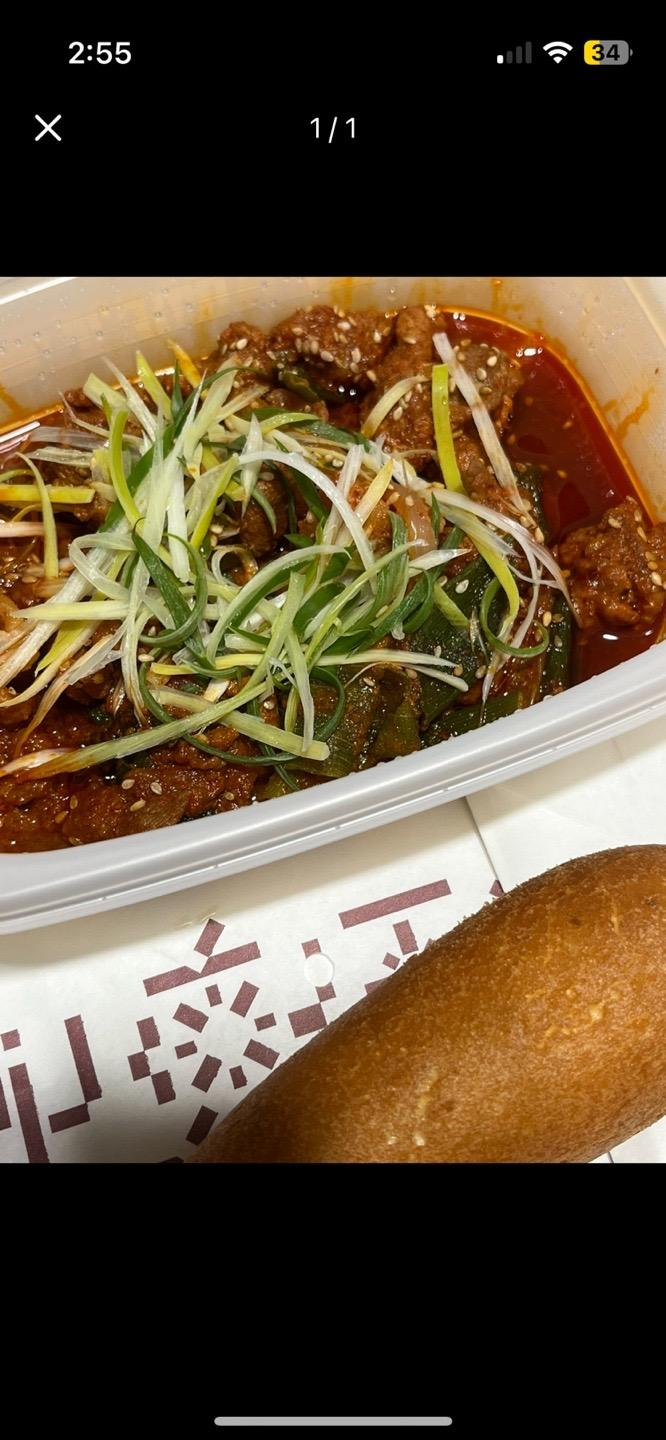Lunch Box: (0, 277, 665, 932)
